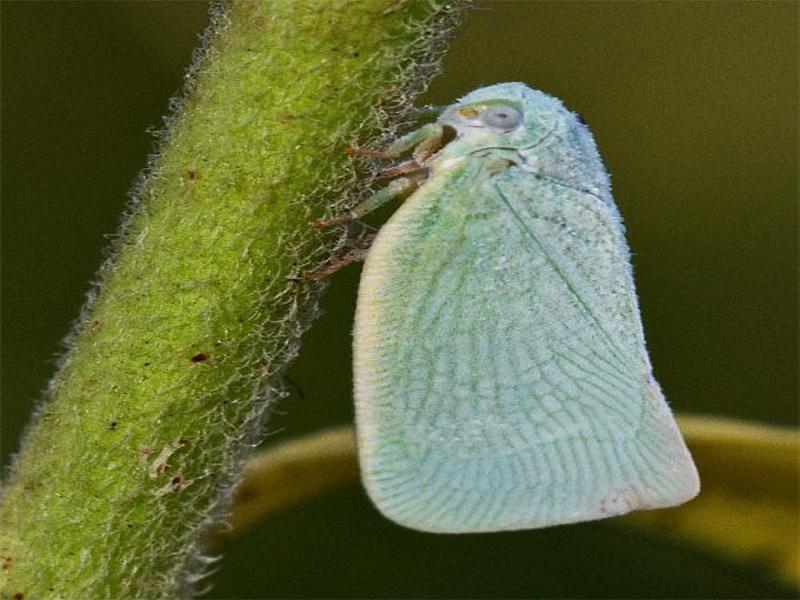White_backed_plant_hopper: (341, 74, 707, 542)
